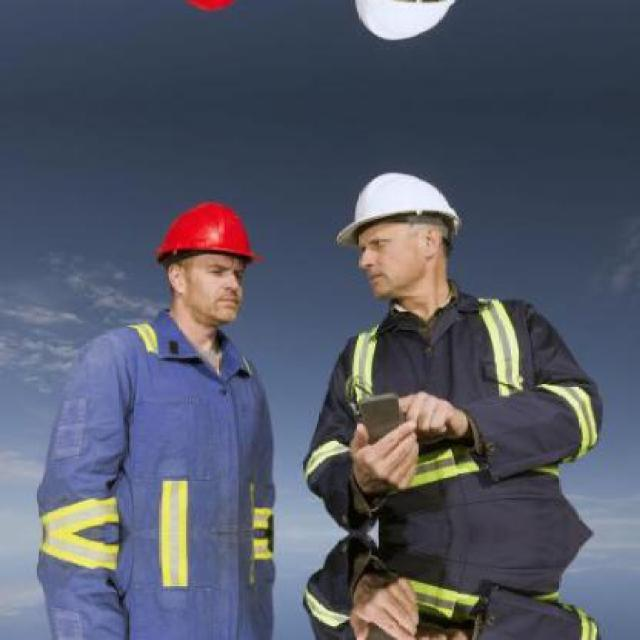safetyhelmet: (346, 168, 460, 282), (160, 194, 256, 305)
